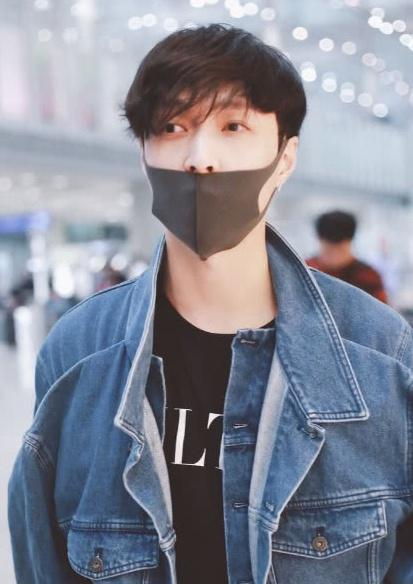WRONG: (142, 84, 274, 257)
